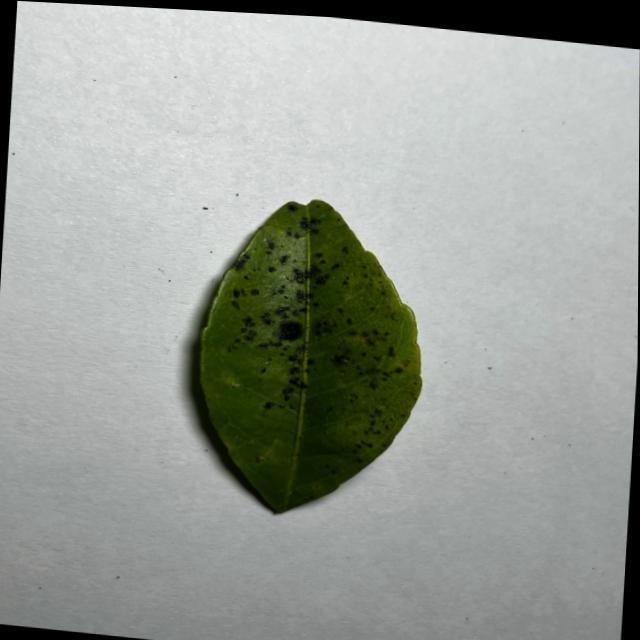sooty_mold: (199, 200, 420, 512)
